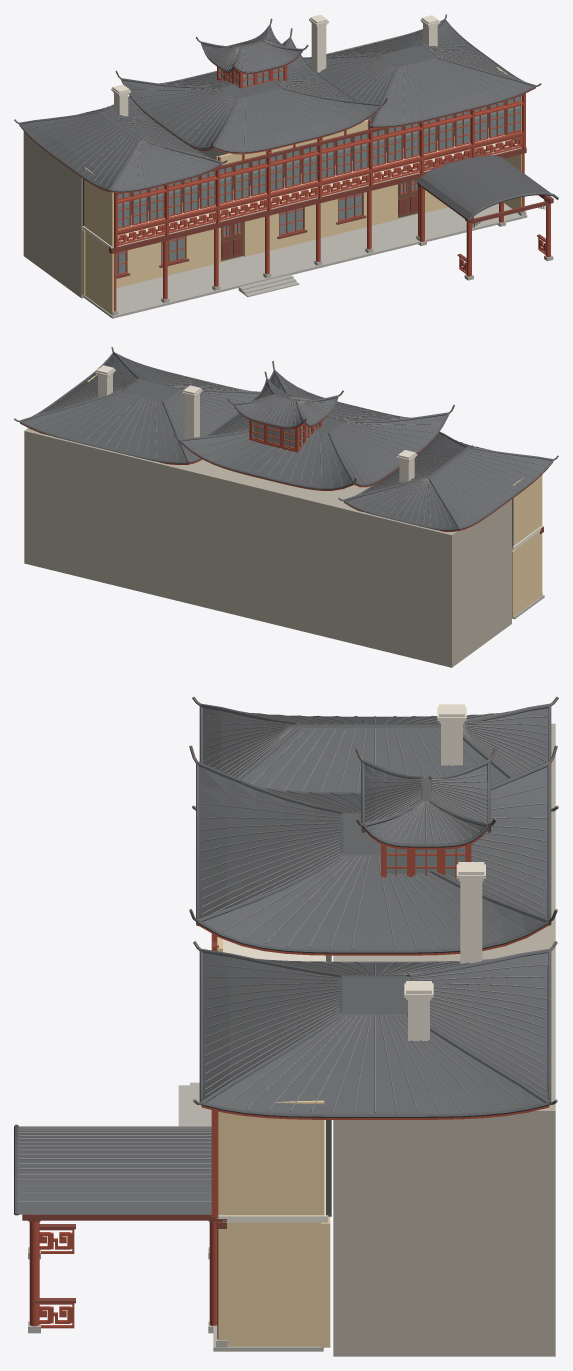
File: changning-st-johns-administration-building-raw.glb
The picture shows the model from 3 angles, top to bottom: view 1: azimuth 30°, elevation 25°; view 2: azimuth 150°, elevation 25°; view 3: azimuth 270°, elevation 25°; orthographic projection. The views are drawn at different scales.
Parts seen in each view (by area): view 1: 圣约翰大学校政厅（四号楼）南廊与望楼; view 2: 圣约翰大学校政厅（四号楼）南廊与望楼; view 3: 圣约翰大学校政厅（四号楼）南廊与望楼.
Part boxes in pixels (box(x1,y1,x2,y2)): 圣约翰大学校政厅（四号楼）南廊与望楼: box(14, 14, 558, 318); 圣约翰大学校政厅（四号楼）南廊与望楼: box(14, 347, 558, 667); 圣约翰大学校政厅（四号楼）南廊与望楼: box(14, 696, 558, 1356).
Size of the model in its own units: 27.75 by 11.79 by 15.8.
